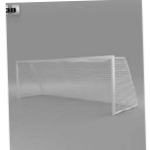goals: (14, 55, 139, 117)
